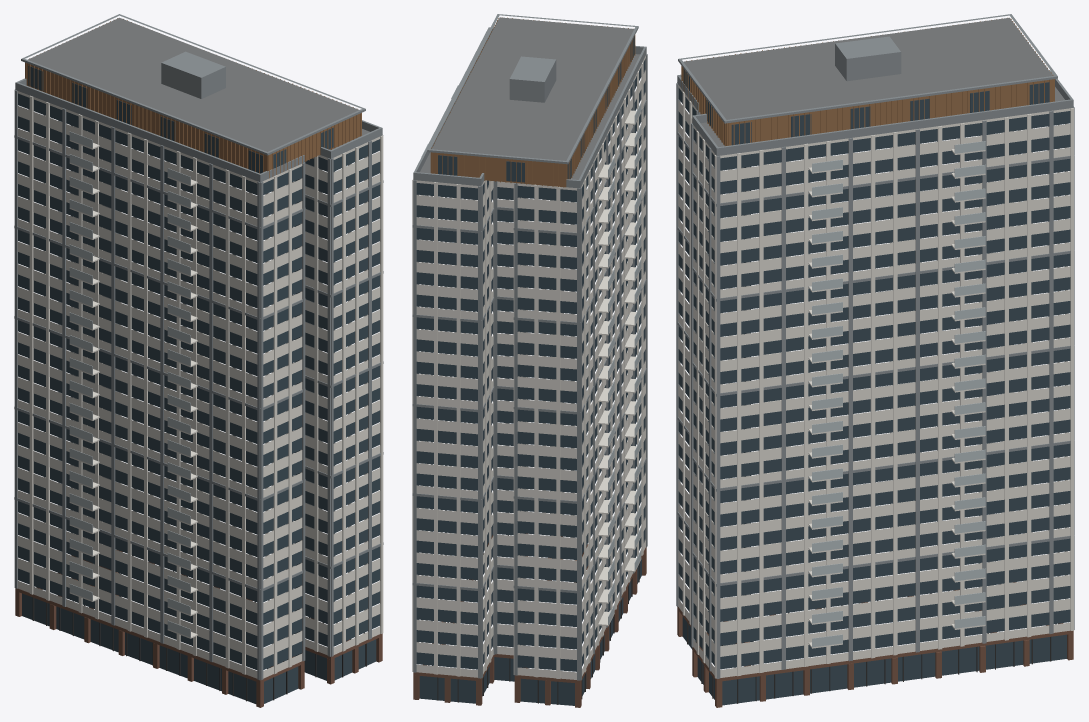
File: poynter_house.glb
3 views of the same model, side by side, from view 1: azimuth 30°, elevation 25°; view 2: azimuth 150°, elevation 25°; view 3: azimuth 270°, elevation 25° (orthographic). The views are drawn at different scales.
Size of the model in its own units: 29.5 by 69.63 by 41.84.
